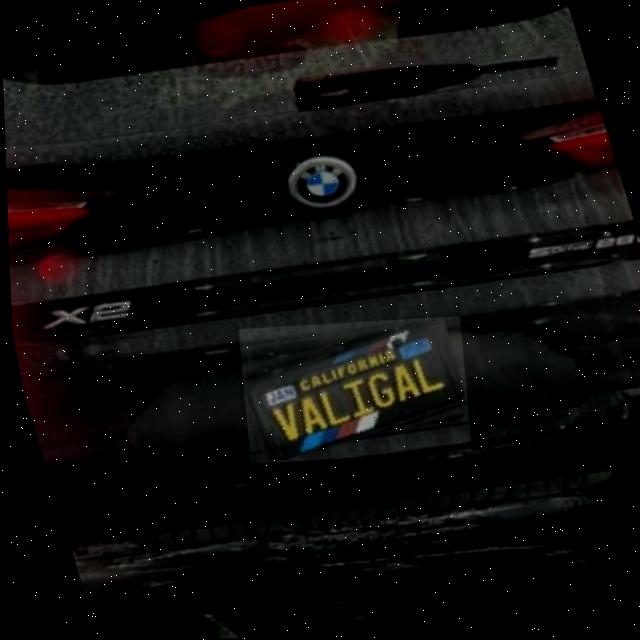LicensePlate: (241, 318, 464, 463)
